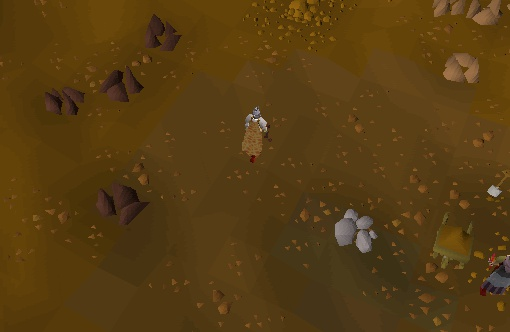copper: (435, 45, 494, 91)
iron: (88, 176, 162, 231), (137, 8, 191, 59), (97, 64, 150, 108), (36, 82, 90, 123)
